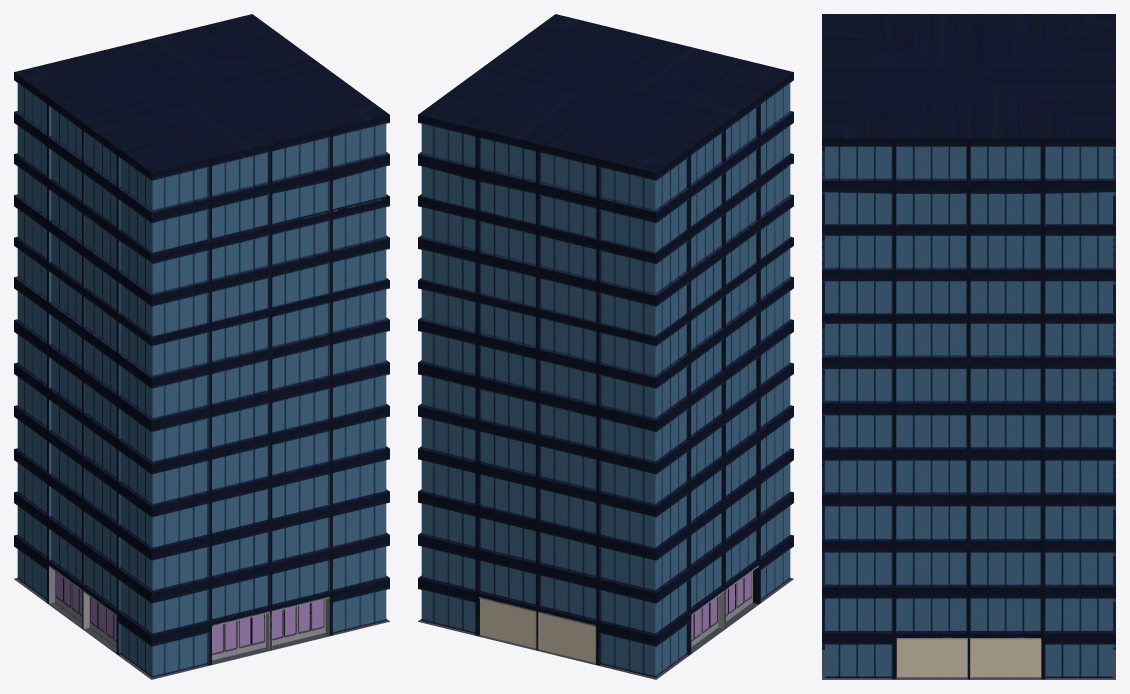
The model's file is City.fbx.
3 renders of one model, left to right at view 1: azimuth 30°, elevation 25°; view 2: azimuth 150°, elevation 25°; view 3: azimuth 270°, elevation 25°, orthographic. The views are drawn at different scales.
Parts seen in each view (by area): view 1: building; view 2: building, building_1; view 3: building, building_1.
Boxes of the visible parts, x1,y1,x2,y2 form: building: (14, 14, 389, 679); building: (418, 14, 793, 679); building_1: (480, 599, 595, 662); building: (822, 14, 1115, 679); building_1: (897, 639, 1041, 677).
Bounding box in the file's own units: 274 × 559 × 274.
